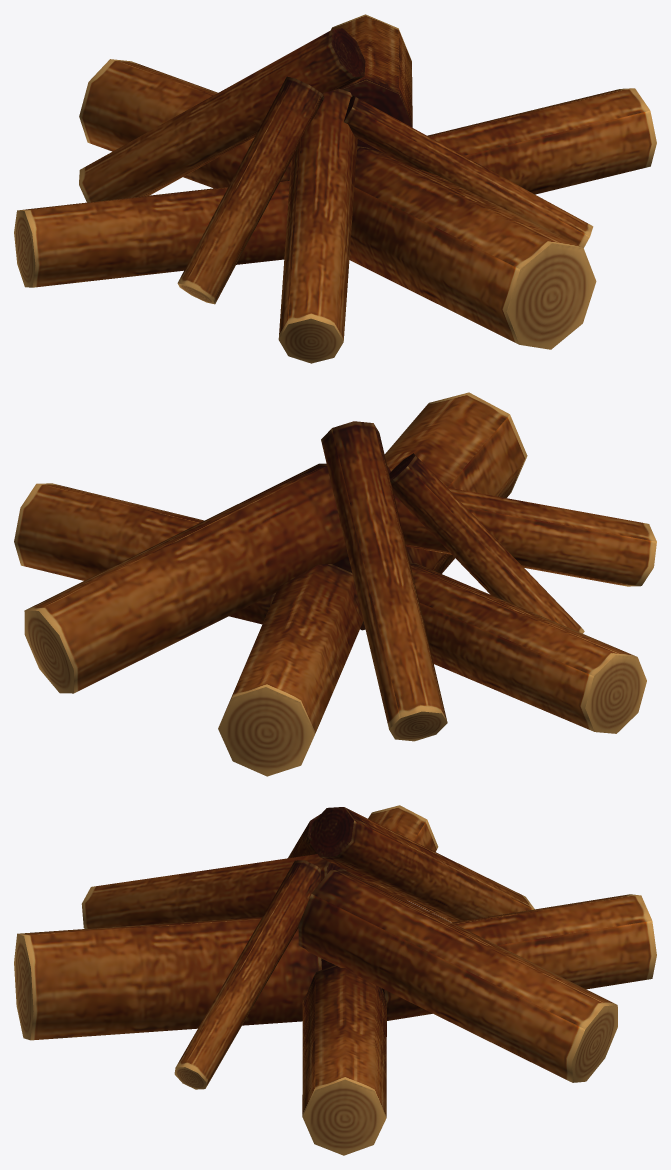
File: Bonfire_HD.fbx
3 renders of one model, top to bottom at view 1: azimuth 30°, elevation 25°; view 2: azimuth 150°, elevation 25°; view 3: azimuth 270°, elevation 25°, orthographic. The views are drawn at different scales.
Parts seen in each view (by area): view 1: Bonfire; view 2: Bonfire; view 3: Bonfire.
Part boxes in pixels (left/top/right/bottom): Bonfire: left=14, top=14, right=656, bottom=363; Bonfire: left=14, top=392, right=656, bottom=776; Bonfire: left=14, top=805, right=656, bottom=1155.
Bounding box in the file's own units: 0.7945 × 0.2742 × 0.7707.
